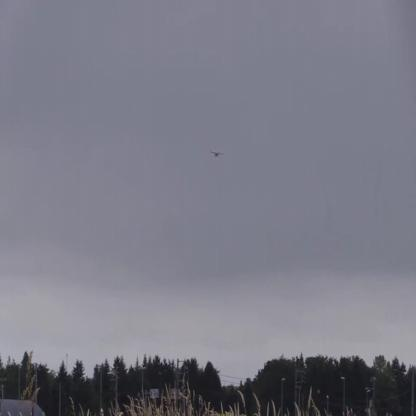CIV_Plane: (210, 148, 226, 162)
